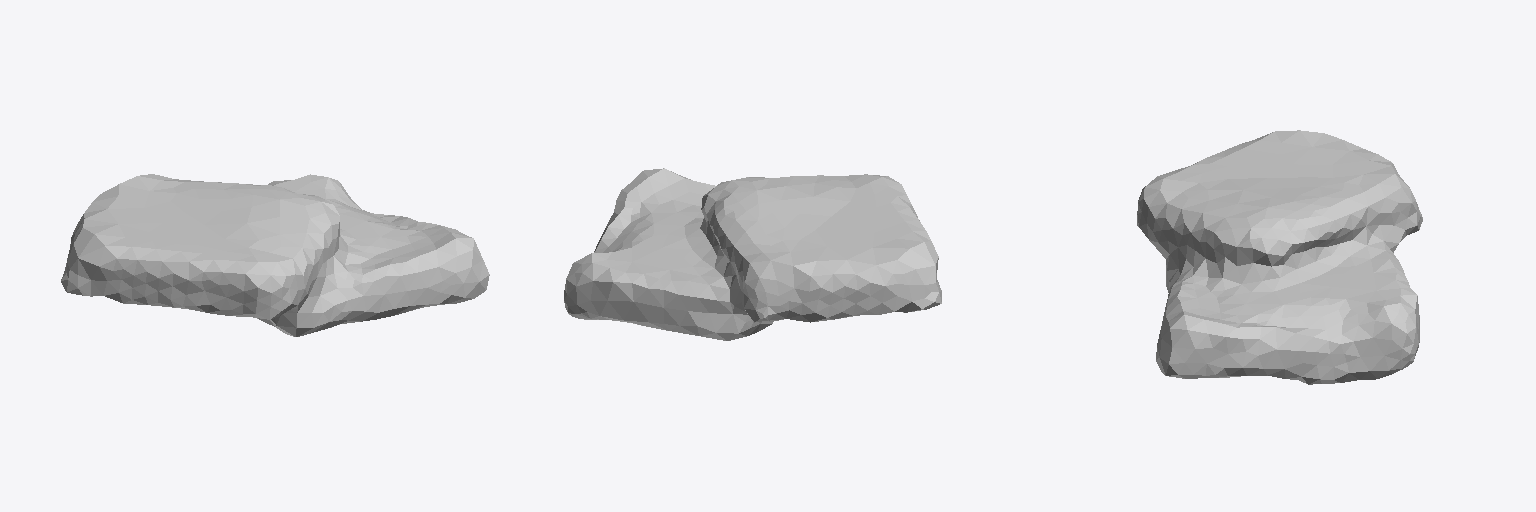
File: plataforma_1.obj
3 renders of one model, left to right at view 1: azimuth 30°, elevation 25°; view 2: azimuth 150°, elevation 25°; view 3: azimuth 270°, elevation 25°, orthographic.
Parts seen in each view (by area): view 1: StonePlatform_C_Stone_C; view 2: StonePlatform_C_Stone_C; view 3: StonePlatform_C_Stone_C.
Boxes of the visible parts, box(x1,y1,x2,y2) form: StonePlatform_C_Stone_C: box(61, 174, 489, 336); StonePlatform_C_Stone_C: box(564, 168, 941, 340); StonePlatform_C_Stone_C: box(1137, 130, 1422, 384).
Size of the model in its own units: 2.65 by 0.7934 by 1.81.